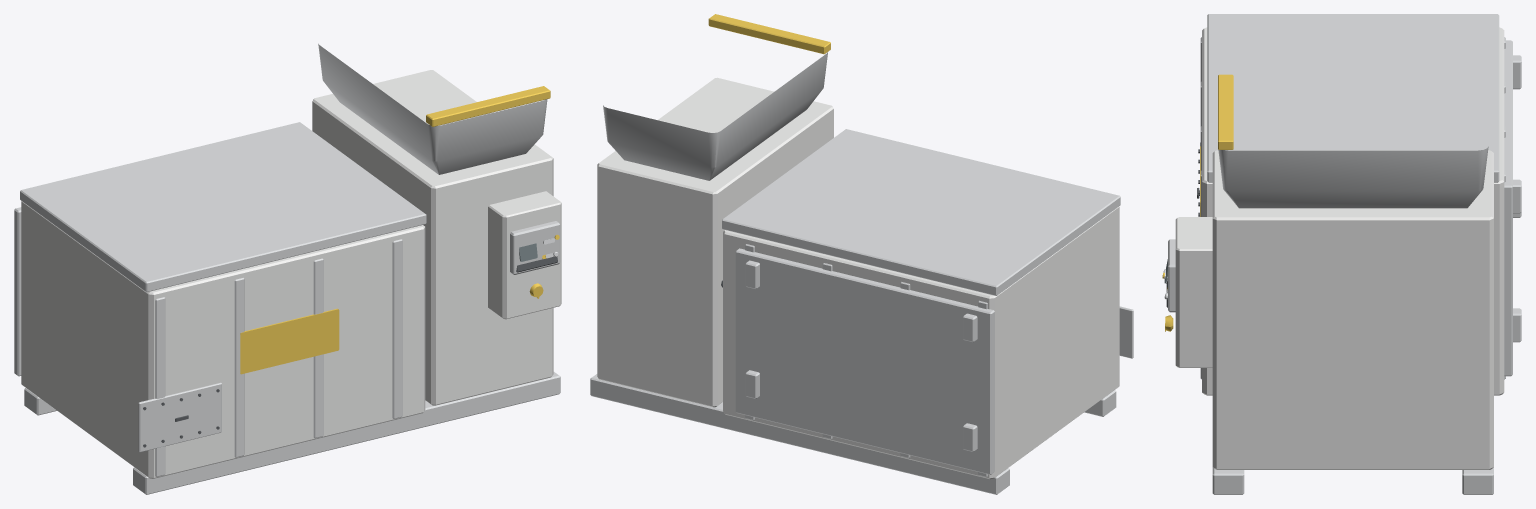
Rendered from laundrette-and-cleaning-waste-compactor-5b38dafa__25601.glb.
3 renders of one model, left to right at view 1: azimuth 30°, elevation 25°; view 2: azimuth 150°, elevation 25°; view 3: azimuth 270°, elevation 25°, orthographic. The views are drawn at different scales.
Visible parts, largest first — view 1: waste-compactor; view 2: waste-compactor; view 3: waste-compactor.
Boxes of the visible parts, x1,y1,x2,y2 form: waste-compactor: (14,43,561,494); waste-compactor: (590,14,1133,494); waste-compactor: (1162,14,1521,494).
Bounding box in the file's own units: 2.16 × 1.47 × 1.37.
